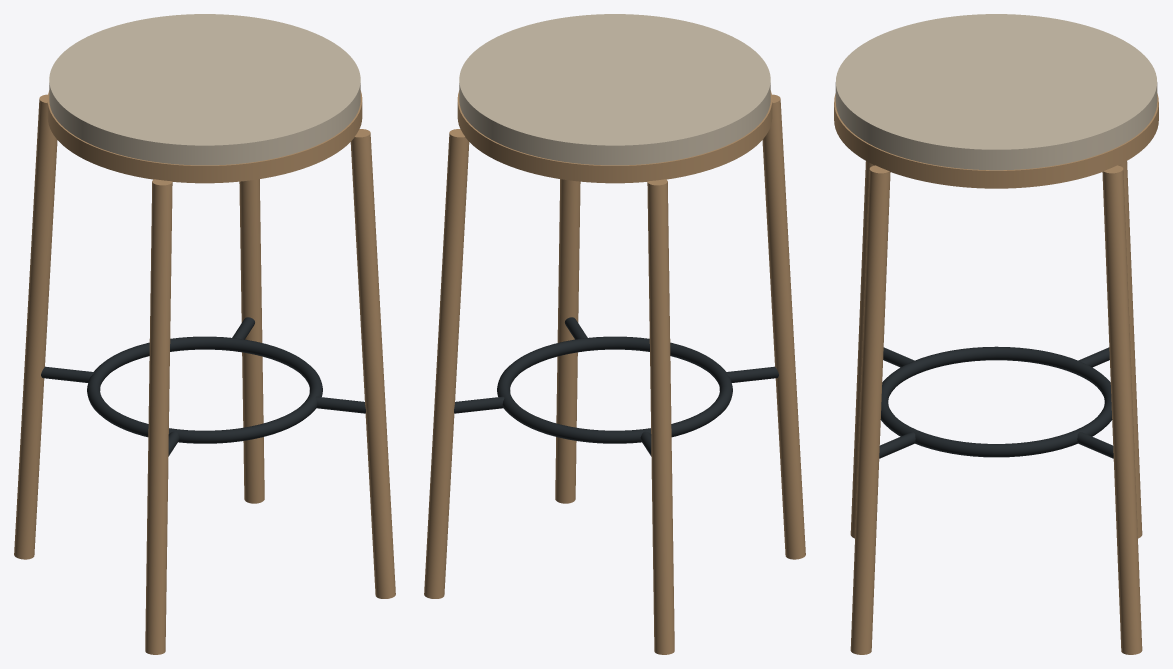
The model's file is barStool-1.glb.
3 views of the same model, side by side, from view 1: azimuth 30°, elevation 25°; view 2: azimuth 150°, elevation 25°; view 3: azimuth 270°, elevation 25° (orthographic). The views are drawn at different scales.
Visible parts, largest first — view 1: barStool:1:archviz; view 2: barStool:1:archviz; view 3: barStool:1:archviz.
Part boxes in pixels (x1,y1,x2,y2): barStool:1:archviz: (14, 14, 395, 654); barStool:1:archviz: (424, 14, 805, 654); barStool:1:archviz: (834, 14, 1158, 654).
Size of the model in its own units: 0.432 by 0.7507 by 0.432.
